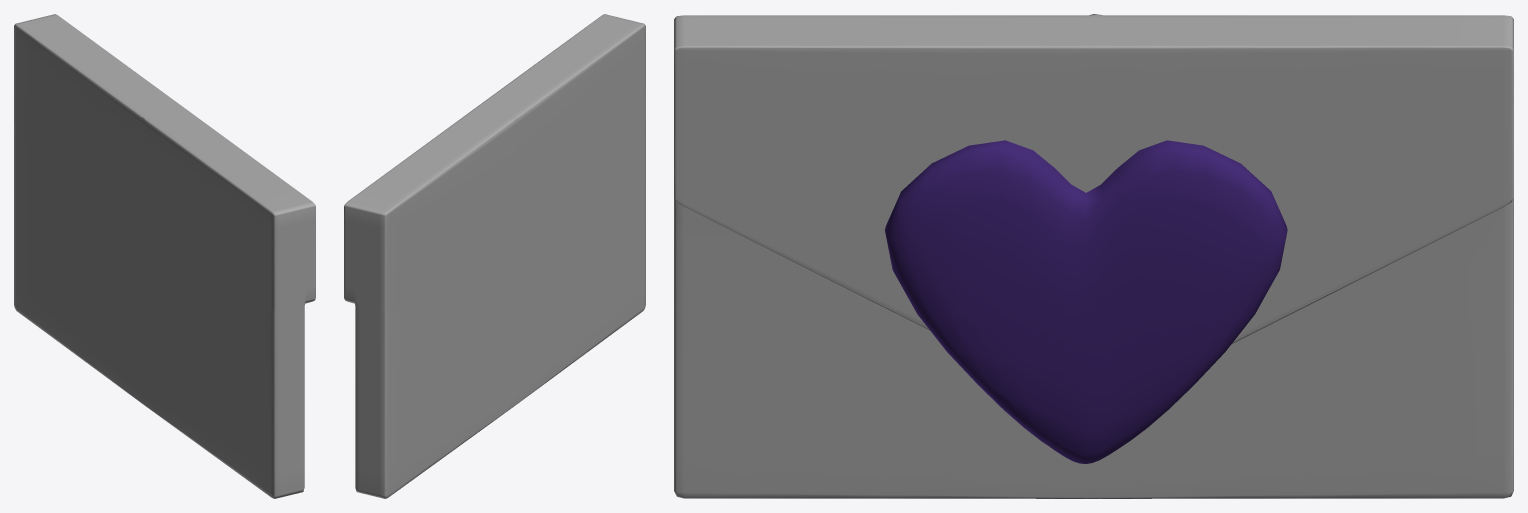
The model's file is PowerUp_Corazon.fbx.
3 views of the same model, side by side, from view 1: azimuth 30°, elevation 25°; view 2: azimuth 150°, elevation 25°; view 3: azimuth 270°, elevation 25° (orthographic). The views are drawn at different scales.
Visible parts, largest first — view 1: pCube8; view 2: pCube8; view 3: pCube8, pCube2.
Part boxes in pixels (<box>): pCube8: <box>14,14,315,498</box>; pCube8: <box>344,14,645,498</box>; pCube8: <box>674,14,1513,498</box>; pCube2: <box>885,140,1287,463</box>.
Bounding box in the file's own units: 0.3269 × 1.45 × 2.39.
